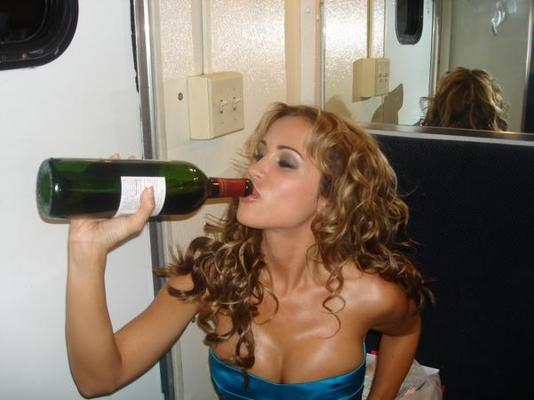person: (65, 101, 425, 400)
